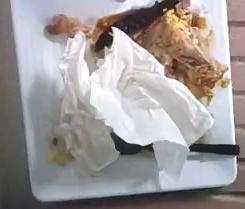chicken: (130, 0, 226, 98)
unknown: (89, 1, 179, 52)
